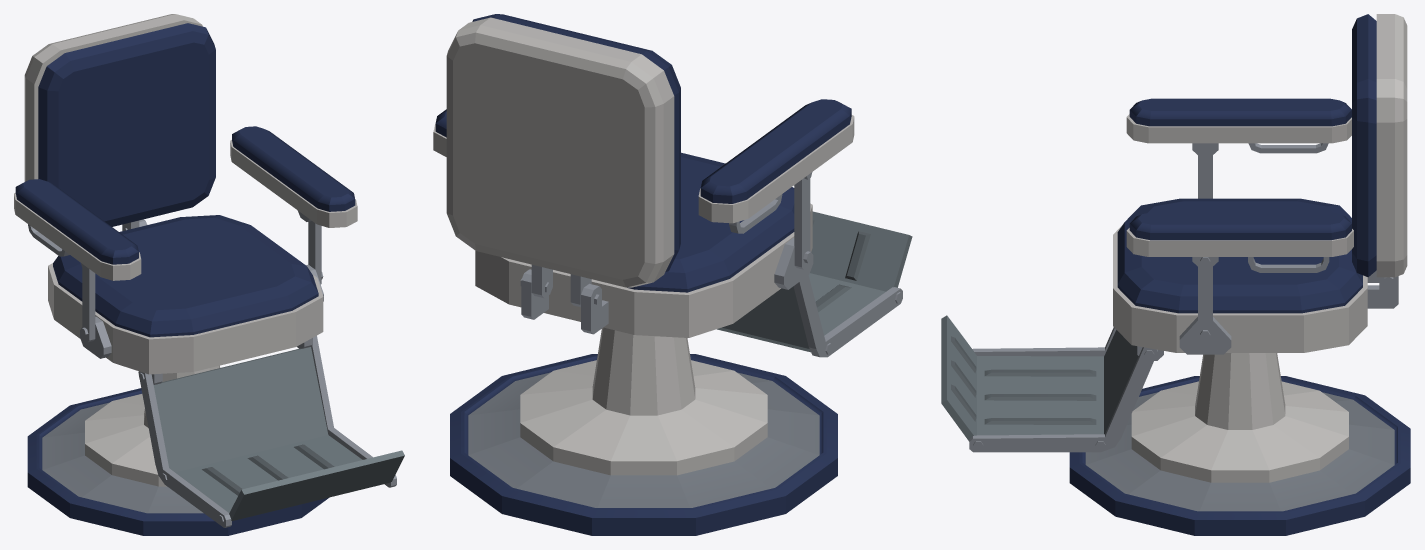
Rendered from Barber_Chair.fbx.
The picture shows the model from 3 angles, left to right: view 1: azimuth 30°, elevation 25°; view 2: azimuth 150°, elevation 25°; view 3: azimuth 270°, elevation 25°; orthographic projection. The views are drawn at different scales.
Parts seen in each view (by area): view 1: Barber_Chair; view 2: Barber_Chair; view 3: Barber_Chair.
Boxes of the visible parts, x1=… form: Barber_Chair: x1=14, y1=14, x2=404, y2=535; Barber_Chair: x1=433, y1=14, x2=912, y2=535; Barber_Chair: x1=941, y1=14, x2=1410, y2=535.
Size of the model in its own units: 97.1 by 131 by 134.
1 material, 1 textured.
